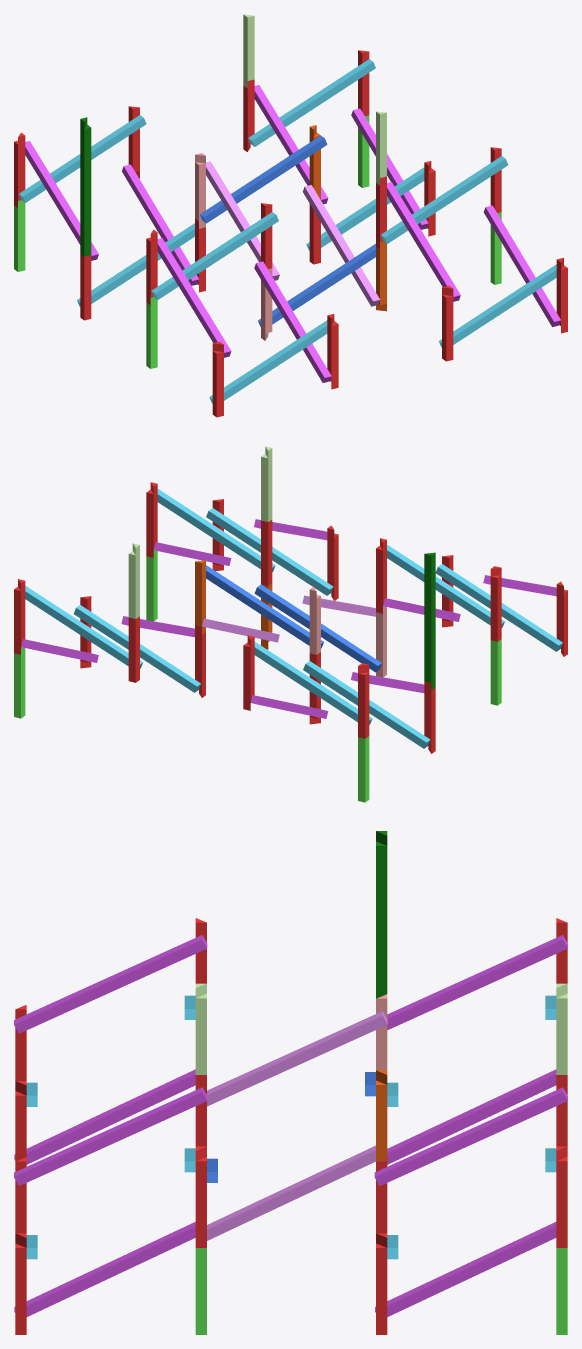
File: ModuleAssymbly_Firstlayer.obj
3 renders of one model, top to bottom at view 1: azimuth 30°, elevation 25°; view 2: azimuth 150°, elevation 25°; view 3: azimuth 270°, elevation 25°, orthographic. The views are drawn at different scales.
Visible parts, largest first — view 1: object_26, object_15, object_33, object_21, object_16, object_8, object_10, object_18, object_36, object_17, object_9, object_20 (+35 smaller); view 2: object_16, object_8, object_19, object_27, object_34, object_21, object_20, object_26, object_33, object_43, object_15, object_22 (+32 smaller); view 3: object_9, object_17, object_28, object_2, object_35, object_18, object_10, object_29, object_3, object_36, object_43, object_5 (+15 smaller).
Part boxes in pixels (x1,y1,x2,y2): object_26: [248, 59, 375, 146]; object_15: [151, 212, 278, 299]; object_33: [200, 135, 327, 223]; object_21: [381, 156, 508, 243]; object_16: [209, 320, 327, 403]; object_8: [439, 264, 556, 347]; object_10: [483, 205, 561, 326]; object_18: [254, 261, 331, 382]; object_36: [302, 185, 379, 306]; object_17: [157, 238, 231, 357]; object_9: [387, 182, 460, 301]; object_20: [19, 115, 146, 202]; object_16: [435, 564, 562, 651]; object_8: [206, 508, 333, 595]; object_19: [303, 661, 430, 748]; object_27: [73, 605, 200, 692]; object_34: [254, 584, 381, 672]; object_21: [157, 489, 275, 571]; object_20: [254, 642, 372, 724]; object_26: [25, 586, 142, 668]; object_33: [206, 565, 323, 648]; object_43: [424, 560, 435, 682]; object_15: [387, 544, 504, 627]; object_22: [358, 663, 369, 738]; object_9: [14, 1087, 207, 1185]; object_17: [14, 935, 207, 1033]; object_28: [374, 1087, 567, 1185]; object_2: [387, 935, 567, 1030]; object_35: [207, 1011, 387, 1106]; object_18: [14, 1069, 195, 1164]; object_10: [14, 1222, 195, 1316]; object_29: [375, 1222, 556, 1316]; object_3: [387, 1069, 556, 1164]; object_36: [207, 1145, 375, 1240]; object_43: [376, 841, 387, 998]; object_5: [195, 1146, 206, 1247].
Bounding box in the file's own units: 1.74 × 0.935 × 1.74.
